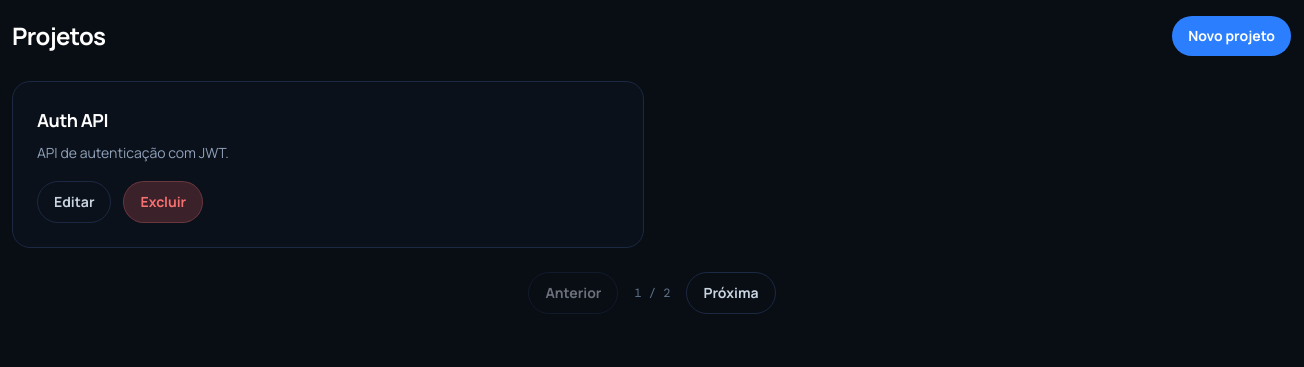
ProjectsSection › shows an error when the page fails to load
Click the button "Próxima": (731, 293) [686, 272, 776, 314]
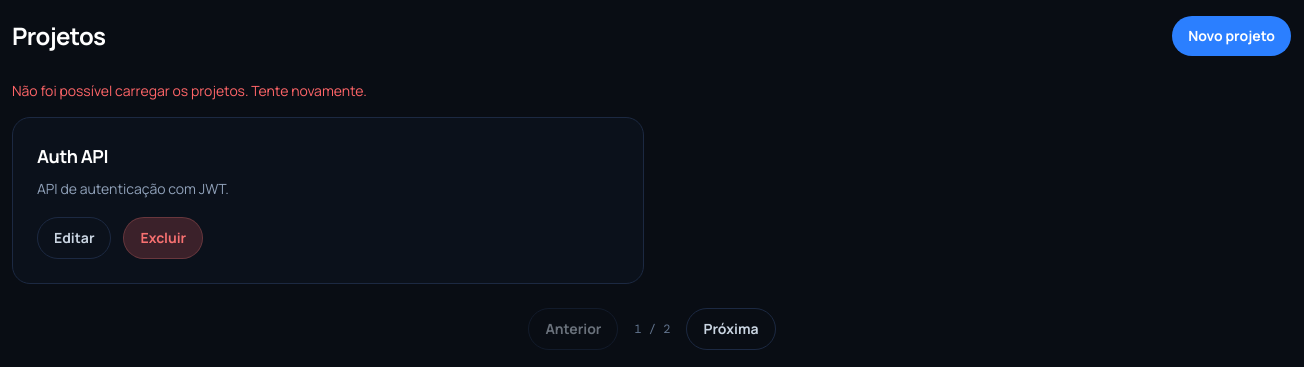
Expected: the text "Não foi possível carregar os projetos. Tente novamente." is shown, [12, 81, 367, 100]
